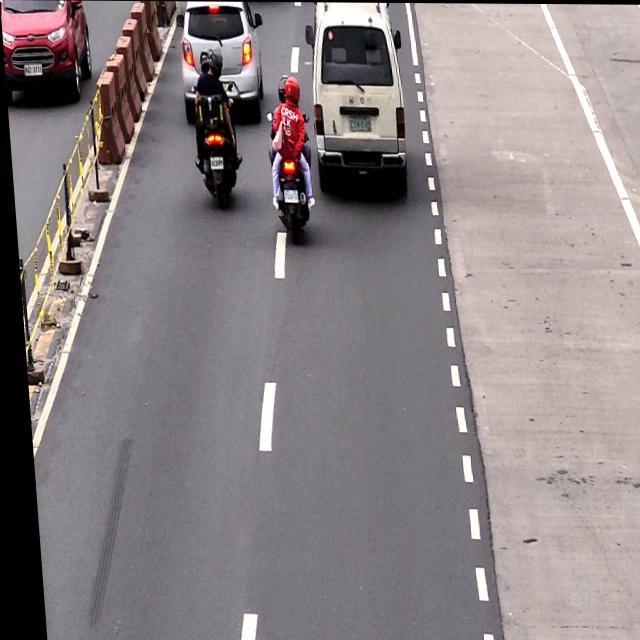Car: (307, 2, 404, 192), (175, 1, 262, 121)
License-Plate: (347, 114, 371, 133), (279, 188, 295, 206), (205, 155, 223, 170)
Motorcycle: (262, 79, 313, 239), (189, 49, 236, 204)
